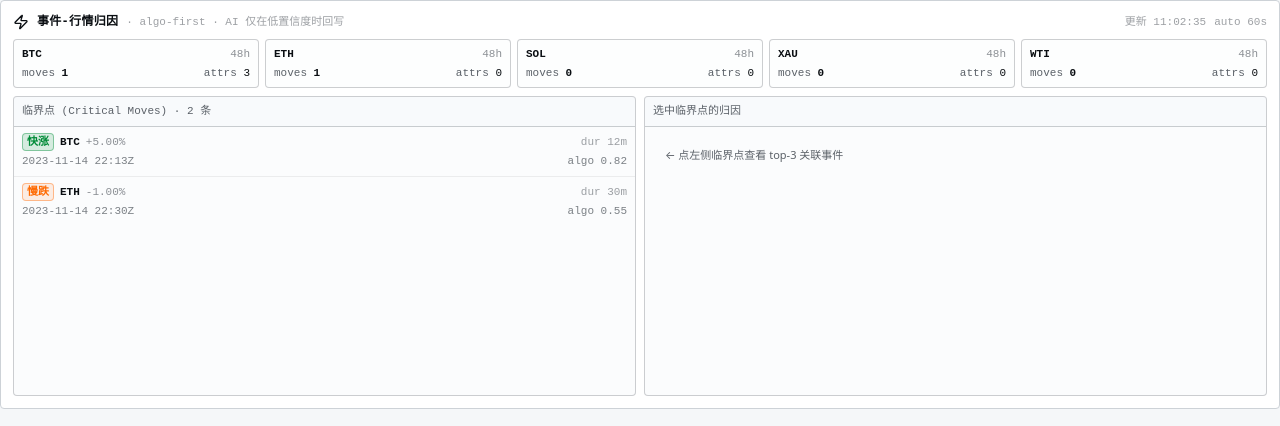
it: EventMarketAttribution v291 a11y › each option has aria-selected reflecting current selection
Click the option "快涨 BTC +5.00% dur 12m 2023-11-14 22:13Z algo 0.82": (38, 142) [14,126,635,176]
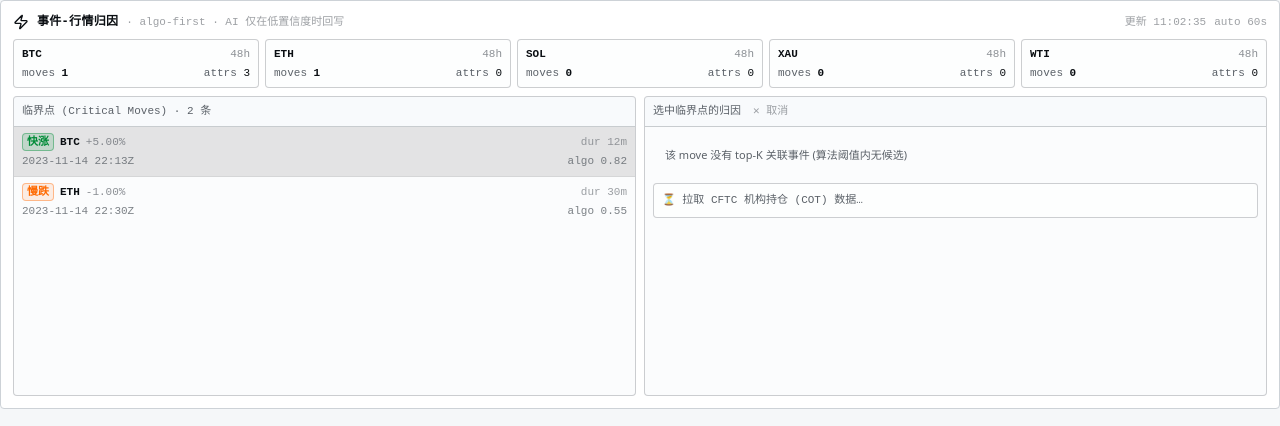
Expected: the option "快涨 BTC +5.00% dur 12m 2023-11-14 22:13Z algo 0.82" is selected, [14,126,635,176]
